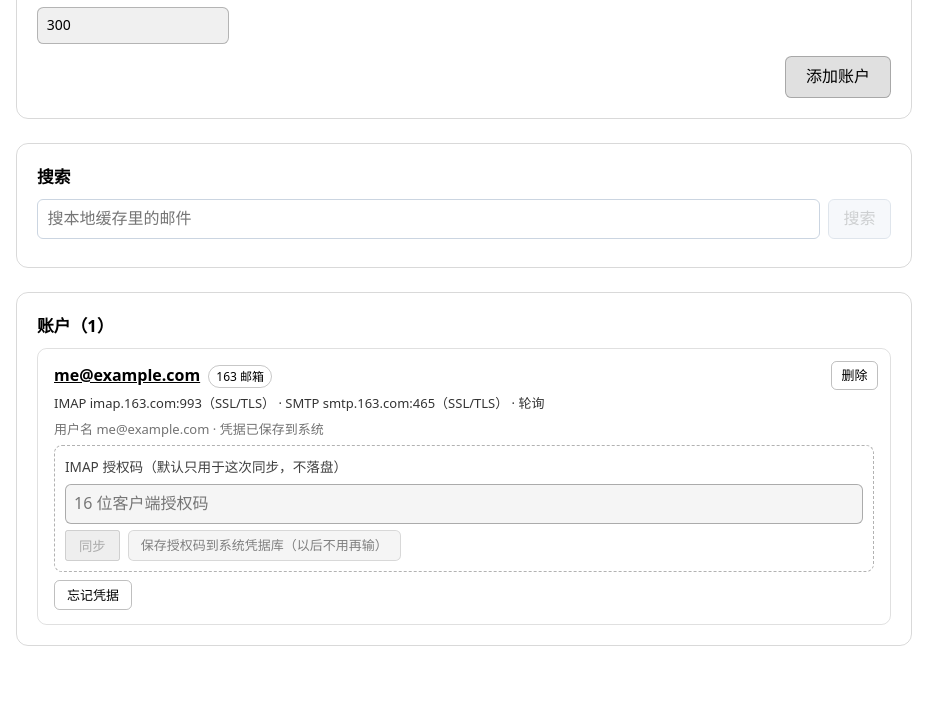
Test case: 写信界面 › 改动之后会自动存草稿，并显示保存时间
(page scrolled)
Click the button "me@example.com": x=127, y=375 [54,363,200,388]
(page scrolled)
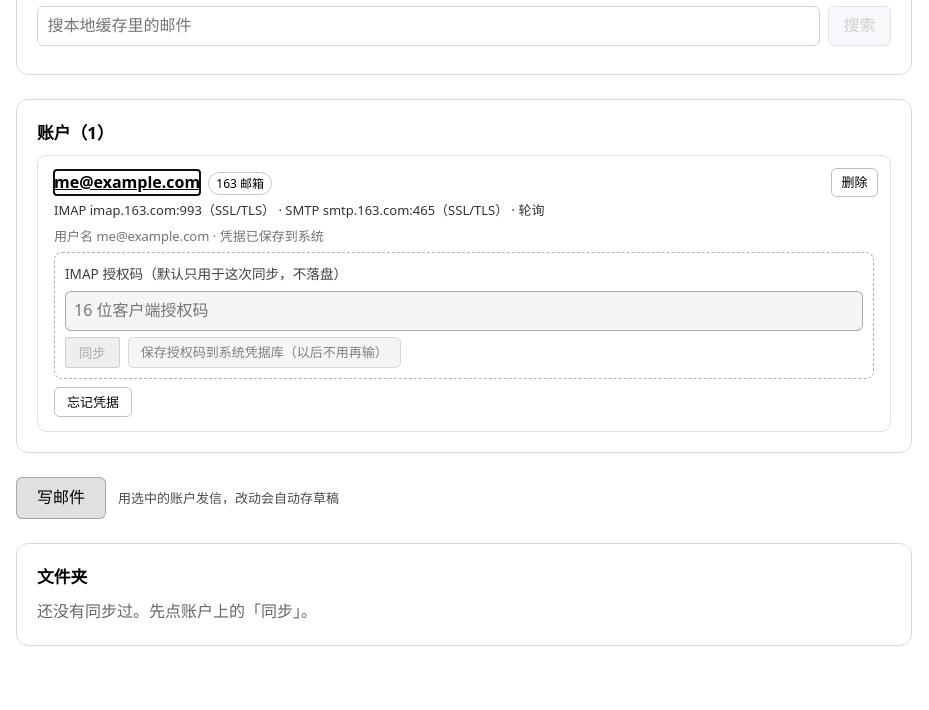
Click the button "写邮件": x=61, y=498 [16,477,106,519]
(page scrolled)
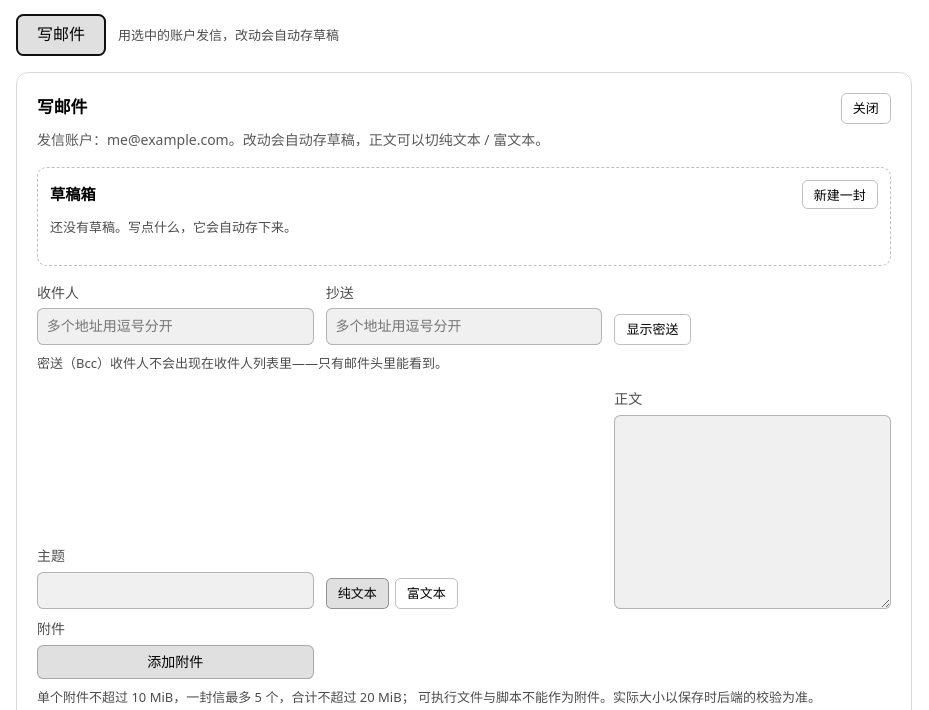
In the field labelled "收件人": x=175, y=327 [37,308,314,345], type "to@example.com"
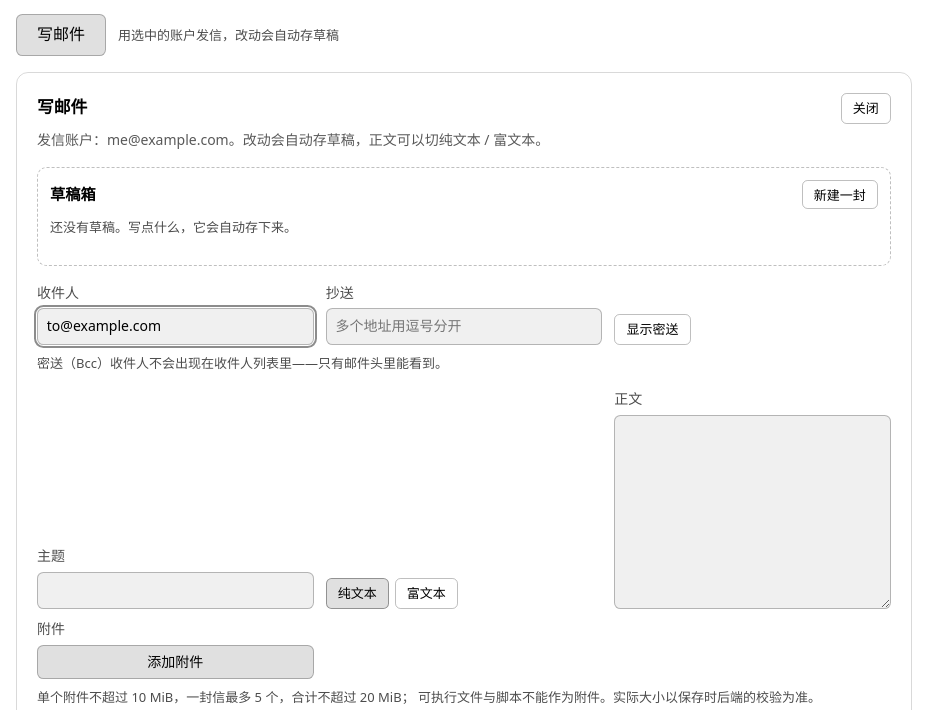
In the field labelled "主题": x=175, y=590 [37,572,314,609], type "草稿标题"
(page scrolled)
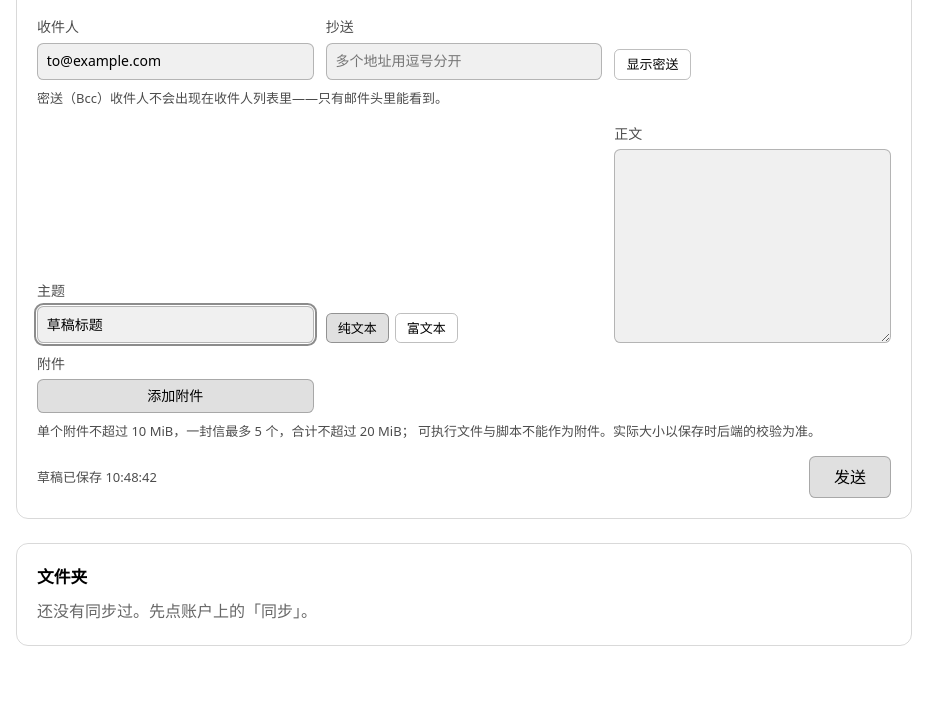
Expected: the text with test id "compose-saved" reads "草稿已保存 10:48:42", [37,468,157,486]
